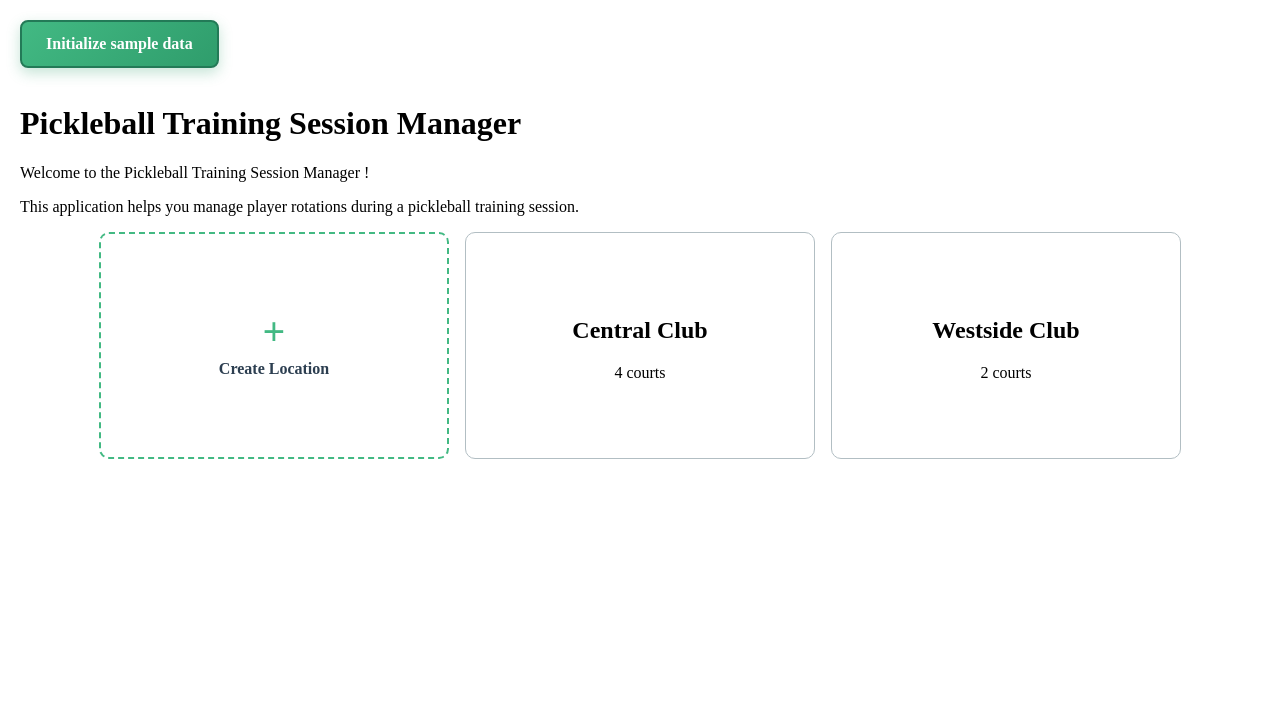
Test: HomeView › opens a deletion confirmation for the requested location
Click the button with class "location-card-select" showing "Westside Club" at {"x": 1006, "y": 330}, box [932,317,1080,344]
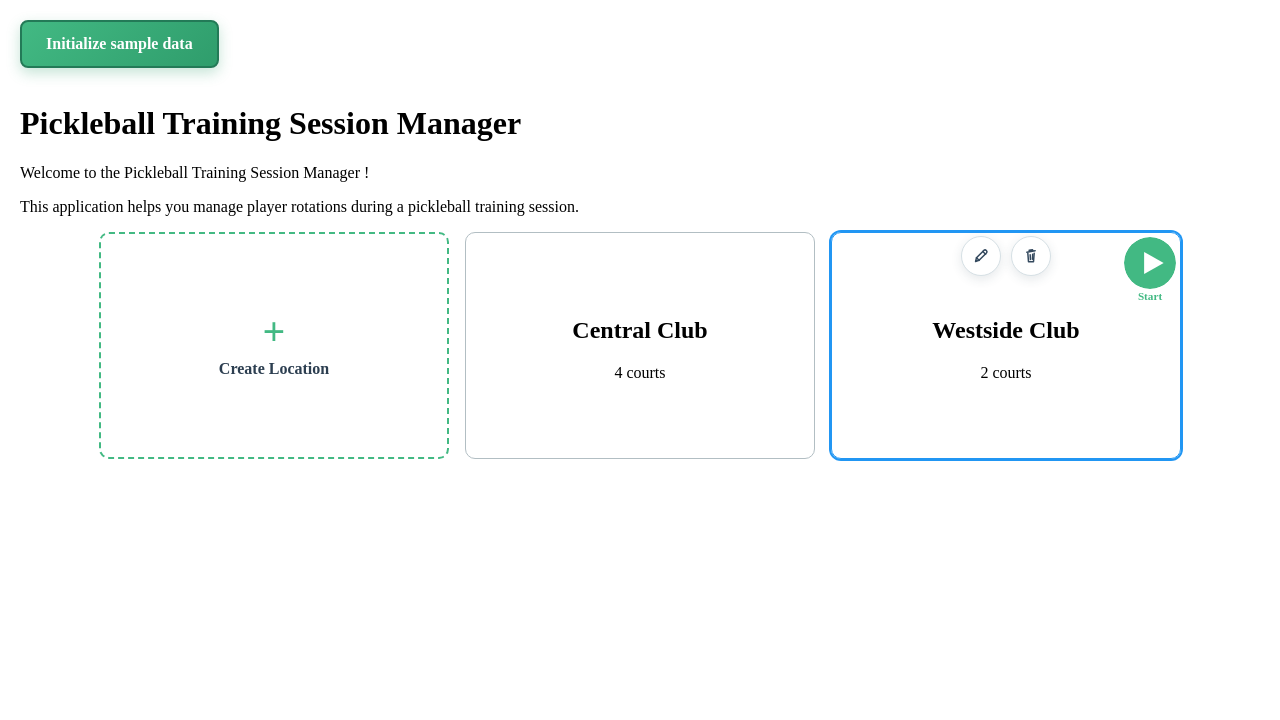
Click the button with class "location-card-delete" at {"x": 1031, "y": 256}, box [1011,236,1051,276]
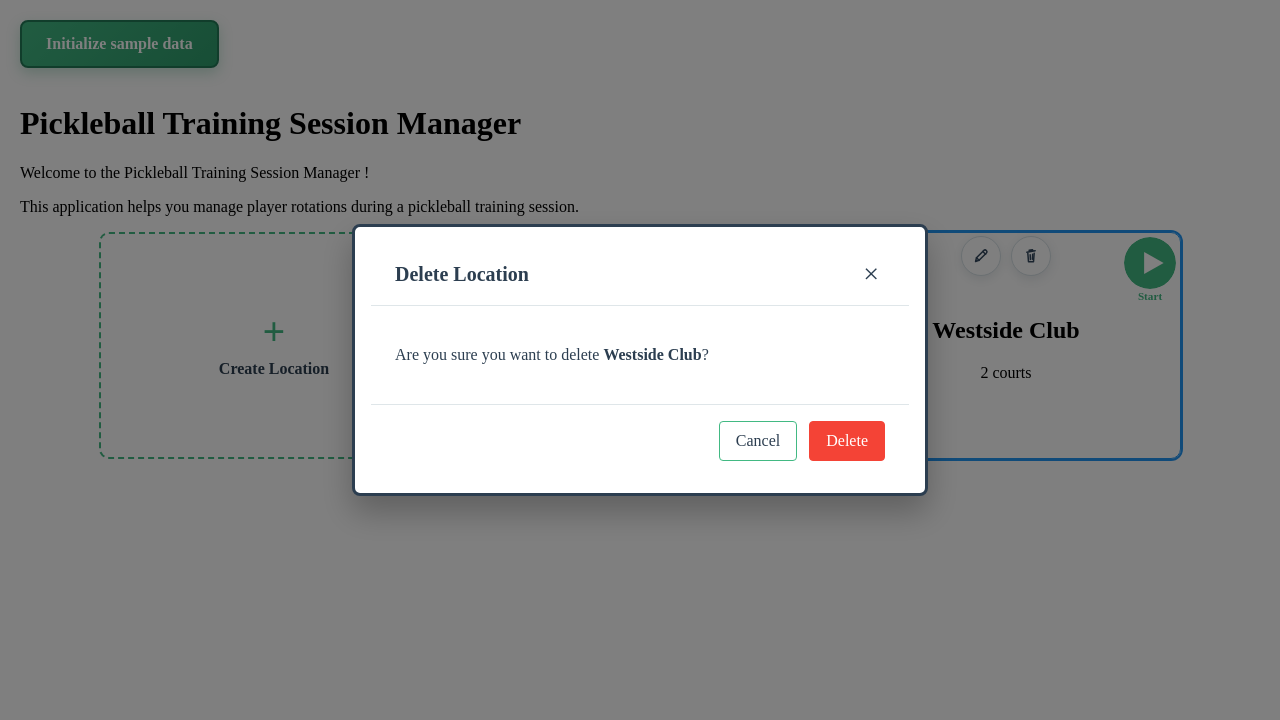
Expected: the element with class "delete-location-message" shows "Westside Club", [603,346,702,363]
